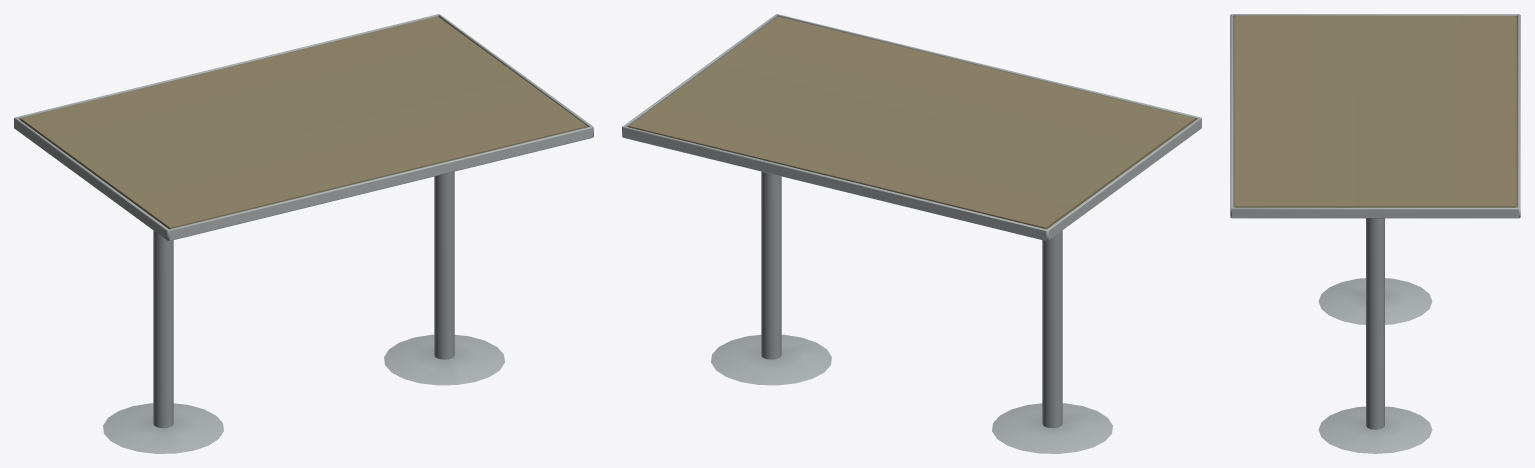
The model's file is rest-table-4.glb.
The picture shows the model from 3 angles, left to right: view 1: azimuth 30°, elevation 25°; view 2: azimuth 150°, elevation 25°; view 3: azimuth 270°, elevation 25°; orthographic projection. The views are drawn at different scales.
Visible parts, largest first — view 1: top__plastic, base__chrome; view 2: top__plastic, base__chrome; view 3: top__plastic, base__chrome.
Boxes of the visible parts, <box> form: top__plastic: <box>19,16,587,229</box>; base__chrome: <box>14,14,593,453</box>; top__plastic: <box>628,16,1196,229</box>; base__chrome: <box>622,14,1201,453</box>; top__plastic: <box>1233,15,1517,207</box>; base__chrome: <box>1230,14,1520,453</box>.
Bounding box in the file's own units: 1.21 × 0.74 × 0.764.
